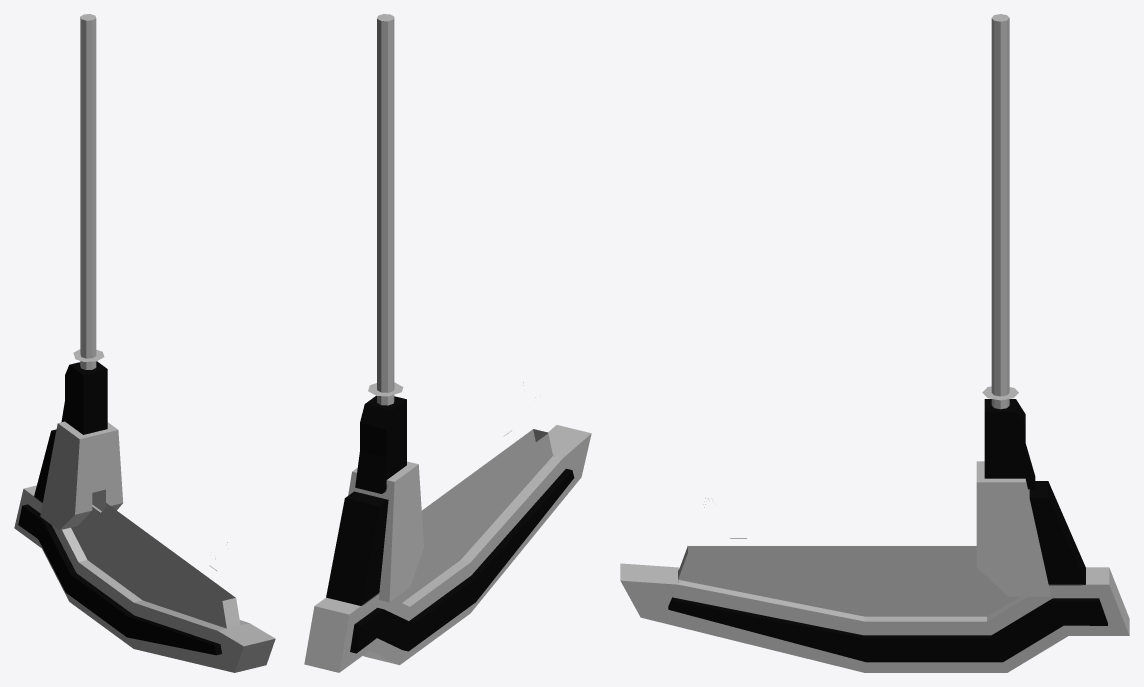
The model's file is ScytheForVFX.fbx.
3 renders of one model, left to right at view 1: azimuth 30°, elevation 25°; view 2: azimuth 150°, elevation 25°; view 3: azimuth 270°, elevation 25°, orthographic. The views are drawn at different scales.
Visible parts, largest first — view 1: Base; view 2: Base; view 3: Base.
Part boxes in pixels (x1,y1,x2,y2): Base: (14,14,275,672); Base: (304,14,591,672); Base: (620,14,1129,672).
Size of the model in its own units: 20.65 by 223 by 159.
